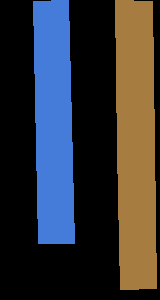parkingspot: (115, 0, 156, 289), (33, 0, 74, 243)
